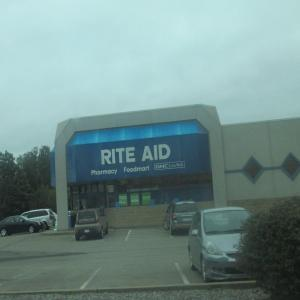Vehicle-registration-plate: (85, 231, 90, 235)
